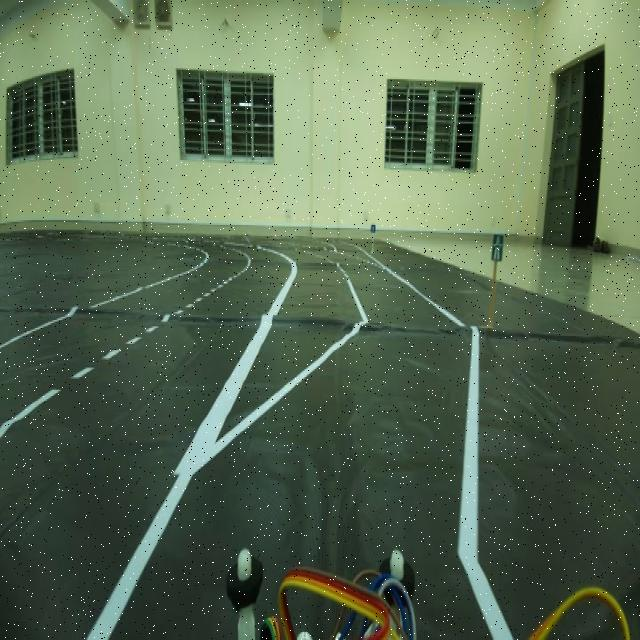highway_entry: (488, 227, 509, 276)
